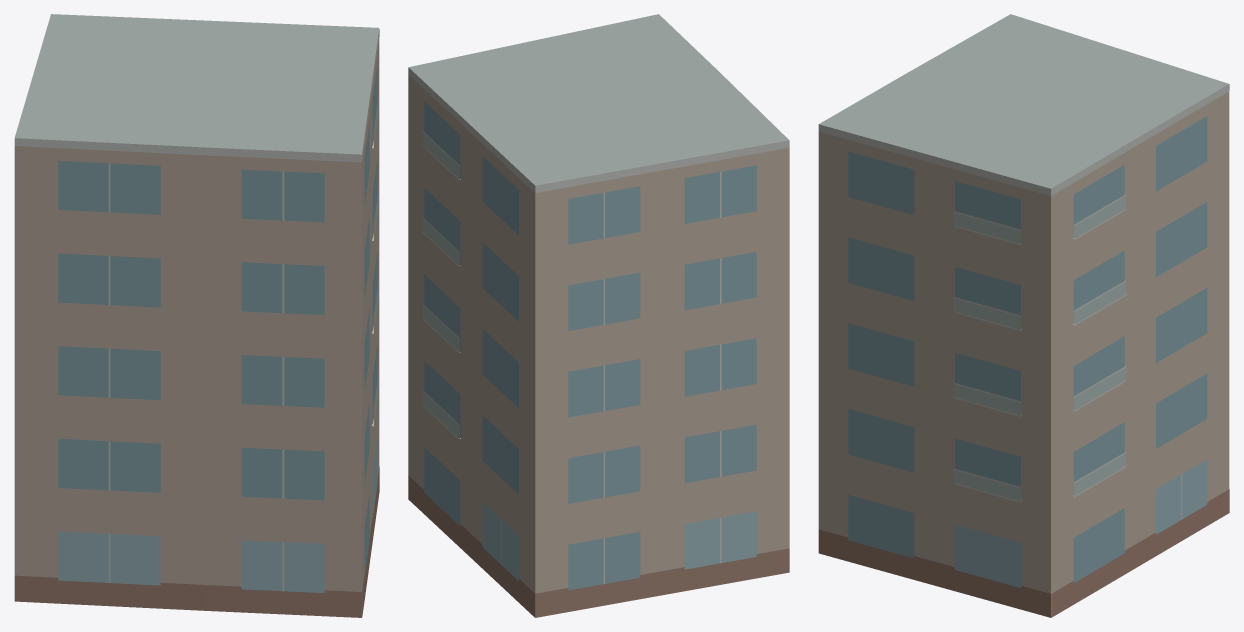
The model's file is survey-upis-32578573.glb.
3 renders of one model, left to right at view 1: azimuth 30°, elevation 25°; view 2: azimuth 150°, elevation 25°; view 3: azimuth 270°, elevation 25°, orthographic. The views are drawn at different scales.
Visible parts, largest first — view 1: survey-upis-32578573.tmp; view 2: survey-upis-32578573.tmp; view 3: survey-upis-32578573.tmp.
Part boxes in pixels (x1,y1,x2,y2): survey-upis-32578573.tmp: (14,14,379,617); survey-upis-32578573.tmp: (408,14,789,617); survey-upis-32578573.tmp: (818,14,1229,617).
Bounding box in the file's own units: 12.54 × 14.35 × 12.46.
